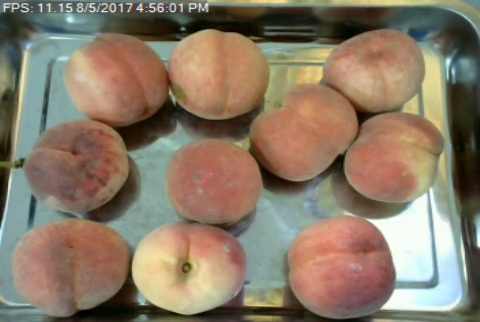Peach: (12, 217, 128, 317), (286, 216, 397, 318), (249, 82, 360, 181), (134, 222, 246, 316), (25, 118, 132, 212), (65, 31, 169, 126), (318, 26, 426, 116), (341, 112, 446, 203), (170, 29, 274, 120), (164, 138, 262, 225)
